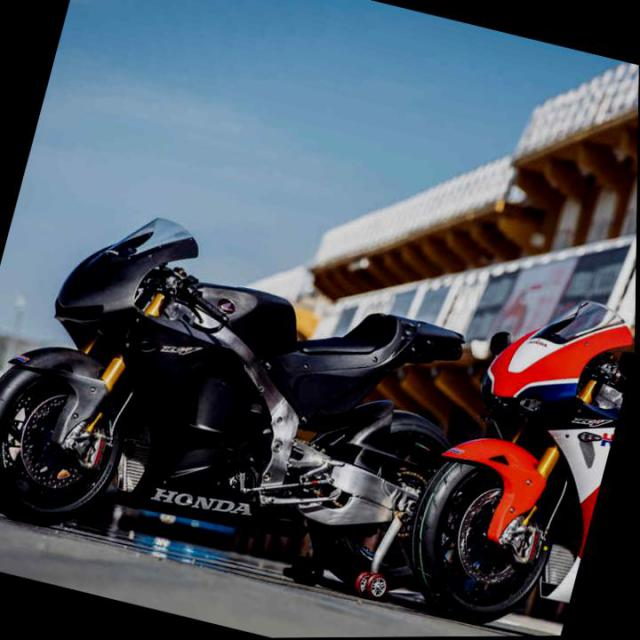HRC RCV 213: (0, 181, 490, 617), (388, 271, 636, 637)
